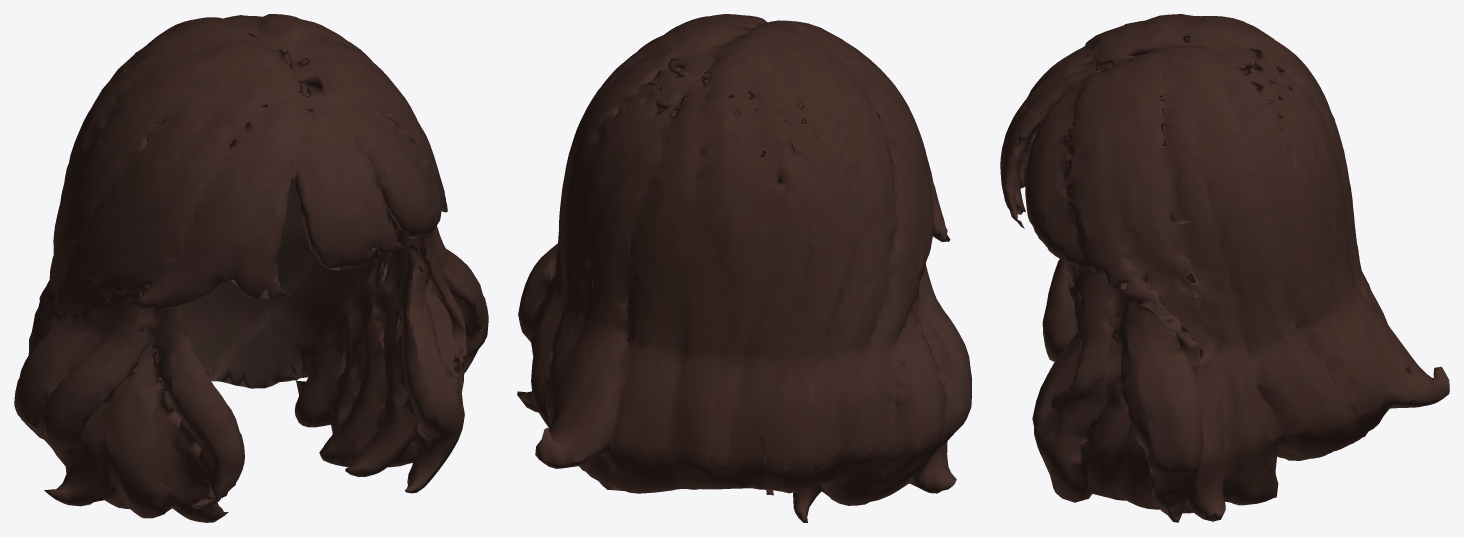
File: lezzet-hair-wavy.glb
3 views of the same model, side by side, from view 1: azimuth 30°, elevation 25°; view 2: azimuth 150°, elevation 25°; view 3: azimuth 270°, elevation 25° (orthographic). The views are drawn at different scales.
Visible parts, largest first — view 1: Hair_Wavy; view 2: Hair_Wavy; view 3: Hair_Wavy.
Boxes of the visible parts, x1,y1,x2,y2 form: Hair_Wavy: [14, 14, 488, 522]; Hair_Wavy: [517, 14, 971, 522]; Hair_Wavy: [1000, 14, 1449, 522].
Size of the model in its own units: 1.66 by 1.59 by 1.53.
